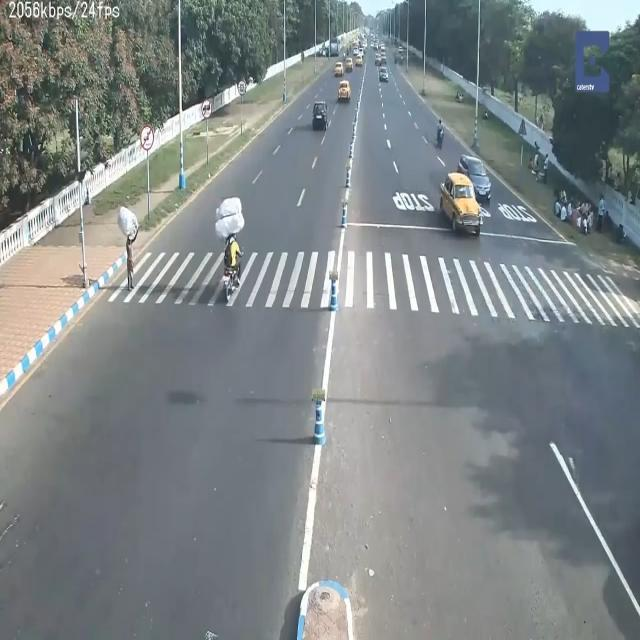accident: (214, 215, 250, 304)
